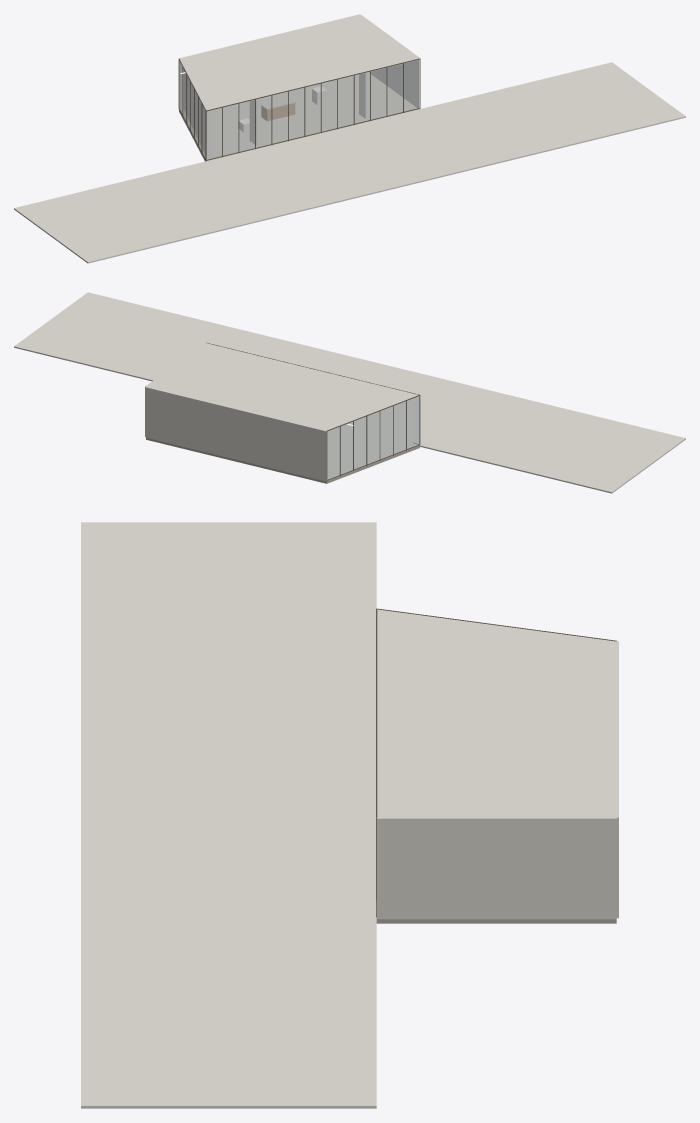
File: upper-west-shop.glb
3 renders of one model, top to bottom at view 1: azimuth 30°, elevation 25°; view 2: azimuth 150°, elevation 25°; view 3: azimuth 270°, elevation 25°, orthographic. The views are drawn at different scales.
Parts seen in each view (by area): view 1: PROPOSED | neutral external backdrop, PROPOSED | ceiling below office slab, SOURCE REGION | shop floor, PROPOSED | rear / circulation partition, PROPOSED | storefront glazing, PROPOSED | storefront glazing.005, PROPOSED | storefront glazing.007, PROPOSED | storefront glazing.009, PROPOSED | storefront glazing.003, PROPOSED | storefront glazing.008, PROPOSED | storefront glazing.010, PROPOSED | storefront glazing.002 (+10 smaller); view 2: PROPOSED | neutral external backdrop, PROPOSED | ceiling below office slab, PROPOSED | rear / circulation partition.001, SOURCE | structural footprint 108, SOURCE | structural footprint 110, SOURCE REGION | shop floor, PROPOSED | storefront glazing.018, PROPOSED | storefront glazing.013, PROPOSED | storefront glazing.015, PROPOSED | storefront glazing.019, PROPOSED | storefront glazing.016, PROPOSED | storefront glazing.017 (+2 smaller); view 3: PROPOSED | neutral external backdrop, PROPOSED | ceiling below office slab, PROPOSED | rear / circulation partition, SOURCE REGION | shop floor.
Part boxes in pixels (bbox=[...]): PROPOSED | neutral external backdrop: bbox=[14, 62, 685, 263]; PROPOSED | ceiling below office slab: bbox=[180, 15, 419, 111]; SOURCE REGION | shop floor: bbox=[179, 74, 418, 161]; PROPOSED | rear / circulation partition: bbox=[360, 14, 420, 108]; PROPOSED | storefront glazing: bbox=[206, 108, 222, 159]; PROPOSED | storefront glazing.005: bbox=[288, 88, 304, 139]; PROPOSED | storefront glazing.007: bbox=[321, 80, 337, 131]; PROPOSED | storefront glazing.009: bbox=[354, 72, 370, 123]; PROPOSED | storefront glazing.003: bbox=[256, 96, 271, 147]; PROPOSED | storefront glazing.008: bbox=[338, 76, 353, 127]; PROPOSED | storefront glazing.010: bbox=[371, 68, 386, 119]; PROPOSED | storefront glazing.002: bbox=[239, 100, 254, 151]; PROPOSED | neutral external backdrop: bbox=[14, 292, 685, 493]; PROPOSED | ceiling below office slab: bbox=[146, 343, 419, 431]; PROPOSED | rear / circulation partition.001: bbox=[145, 387, 326, 481]; SOURCE | structural footprint 108: bbox=[327, 407, 379, 477]; SOURCE | structural footprint 110: bbox=[377, 399, 405, 458]; SOURCE REGION | shop floor: bbox=[146, 437, 419, 483]; PROPOSED | storefront glazing.018: bbox=[393, 401, 406, 453]; PROPOSED | storefront glazing.013: bbox=[327, 427, 339, 479]; PROPOSED | storefront glazing.015: bbox=[354, 417, 366, 469]; PROPOSED | storefront glazing.019: bbox=[407, 396, 419, 448]; PROPOSED | storefront glazing.016: bbox=[367, 412, 379, 463]; PROPOSED | storefront glazing.017: bbox=[380, 407, 392, 458]; PROPOSED | neutral external backdrop: bbox=[81, 522, 376, 1108]; PROPOSED | ceiling below office slab: bbox=[377, 609, 616, 817]; PROPOSED | rear / circulation partition: bbox=[376, 816, 616, 919]; SOURCE REGION | shop floor: bbox=[376, 919, 616, 923].
Size of the model in its own units: 46.69 by 3.96 by 18.19.
